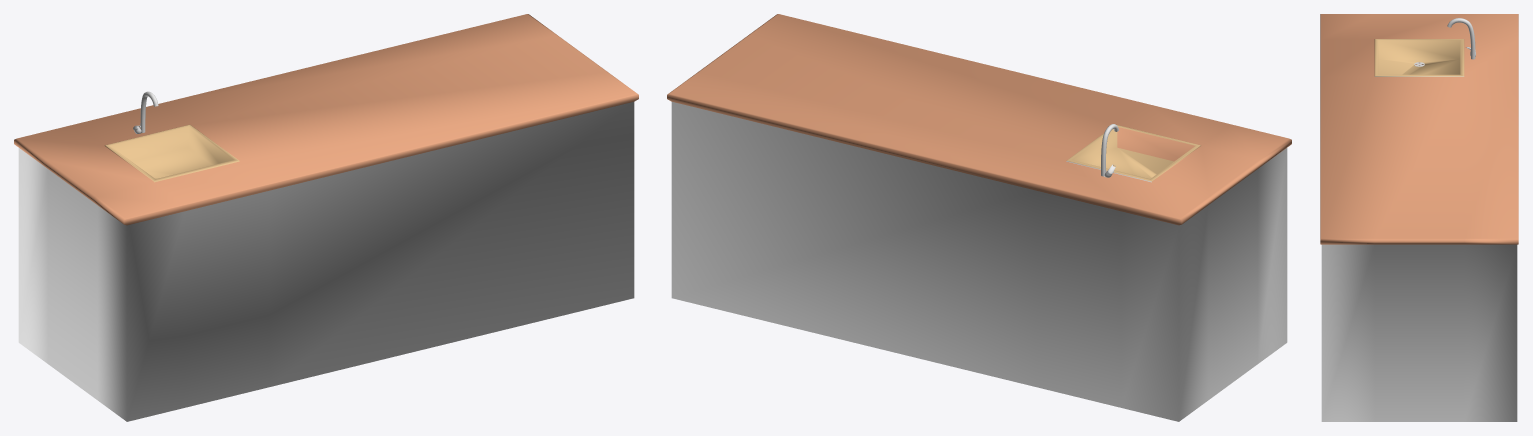
The model's file is kitchen_unit_001.fbx.
The picture shows the model from 3 angles, left to right: view 1: azimuth 30°, elevation 25°; view 2: azimuth 150°, elevation 25°; view 3: azimuth 270°, elevation 25°; orthographic projection. The views are drawn at different scales.
Visible parts, largest first — view 1: Kitchen_Unit; view 2: Kitchen_Unit; view 3: Kitchen_Unit, Water Cock.
Part boxes in pixels (<box>): Kitchen_Unit: <box>14,14,638,421</box>; Kitchen_Unit: <box>667,14,1291,421</box>; Kitchen_Unit: <box>1320,14,1518,421</box>; Water Cock: <box>1447,18,1475,59</box>.
Bounding box in the file's own units: 13.52 × 6.25 × 5.
